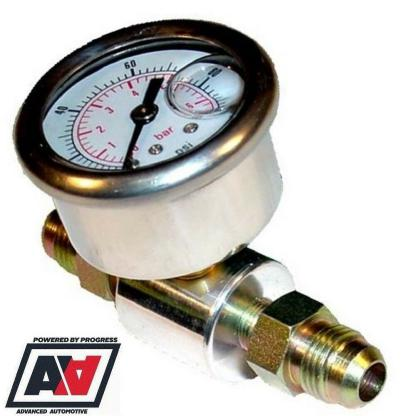needle: (120, 122, 146, 172)
